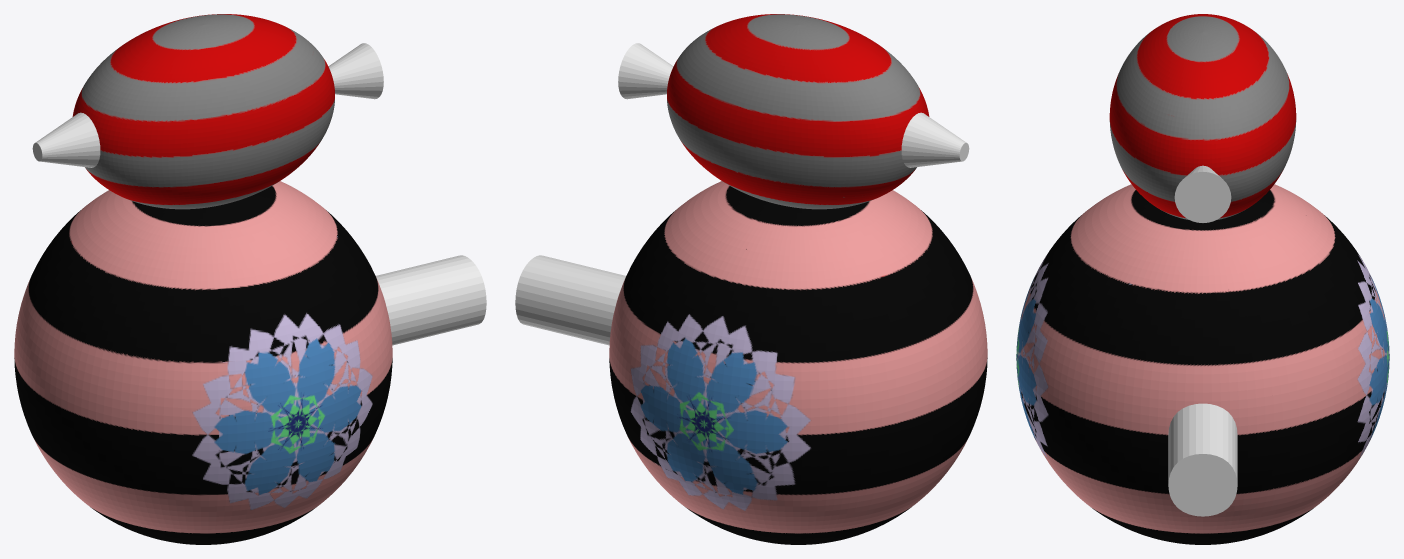
The model's file is BOD0_BMC11_BCC1_BPT1_FRC11_HEA1_HMC0_HCC4_HPT1_ELT2_ERT3_ELL0_ERL1_AP2_AAL0_AAR2_BEK0.fbx.
3 views of the same model, side by side, from view 1: azimuth 30°, elevation 25°; view 2: azimuth 150°, elevation 25°; view 3: azimuth 270°, elevation 25° (orthographic).
Visible parts, largest first — view 1: Body, Arm, Ear, Ear.001; view 2: Body, Arm, Ear, Ear.001; view 3: Body, Arm, Ear.001.
Part boxes in pixels (<box>): Body: <box>14,14,392,544</box>; Arm: <box>376,255,486,345</box>; Ear: <box>32,112,100,167</box>; Ear.001: <box>328,43,383,99</box>; Body: <box>609,14,987,544</box>; Arm: <box>515,255,625,345</box>; Ear: <box>901,112,969,167</box>; Ear.001: <box>618,43,673,99</box>; Body: <box>1016,14,1389,544</box>; Arm: <box>1168,403,1237,516</box>; Ear.001: <box>1174,165,1231,222</box>.
Bounding box in the file's own units: 65 × 72.41 × 49.36.
1 material, 1 textured.
